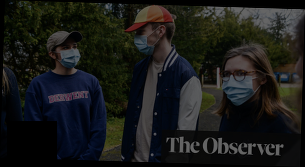with_mask: (220, 67, 258, 108), (56, 41, 82, 68), (134, 28, 157, 57)
